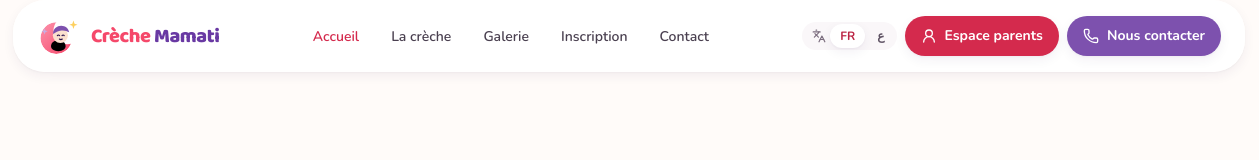
language switcher › switches the interface to Arabic and mirrors the document
Click the button named "العربية" at (881, 36), box left=867, top=24, right=894, bottom=48
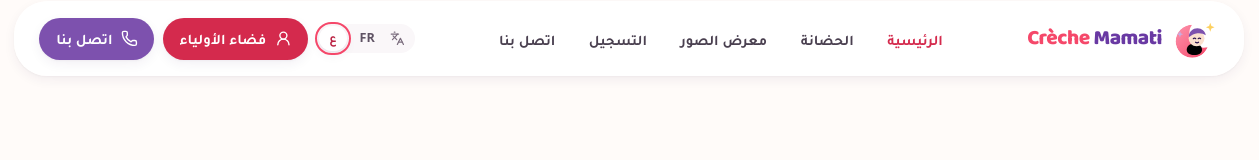
Check: the link "الرئيسية" is shown, box left=887, top=29, right=943, bottom=49
Check: the link "Accueil" is gone
